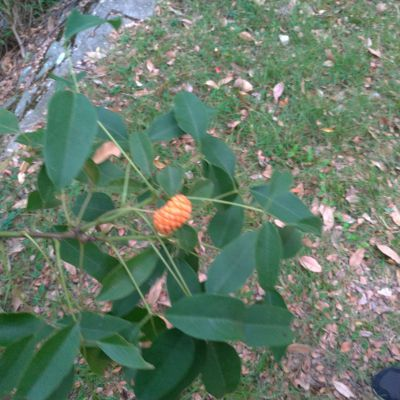eggs: (147, 192, 199, 236)
